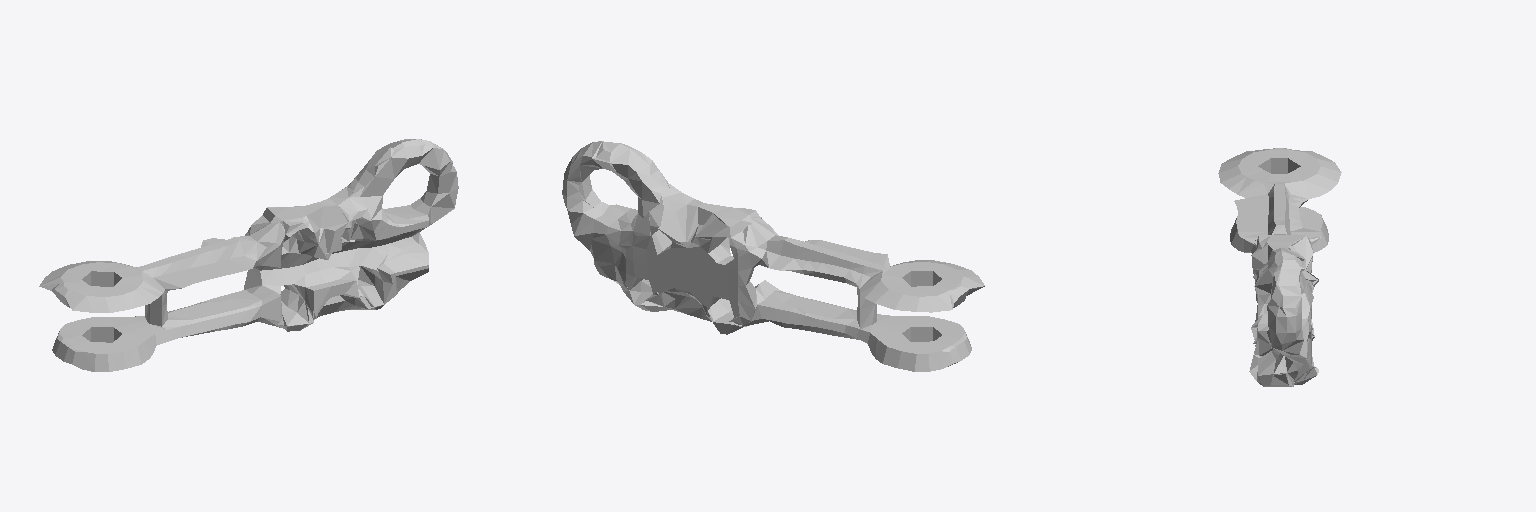
The picture shows the model from 3 angles: view 1: azimuth 30°, elevation 25°; view 2: azimuth 150°, elevation 25°; view 3: azimuth 270°, elevation 25°; orthographic projection.
Parts seen in each view (by area): view 1: Grapa_Retencion_Recta_2-0; view 2: Grapa_Retencion_Recta_2-0; view 3: Grapa_Retencion_Recta_2-0.
Boxes of the visible parts, x1,y1,x2,y2 form: Grapa_Retencion_Recta_2-0: [39, 139, 458, 371]; Grapa_Retencion_Recta_2-0: [562, 141, 984, 371]; Grapa_Retencion_Recta_2-0: [1218, 148, 1341, 386].
Size of the model in its own units: 1.03 by 0.379 by 0.2743.